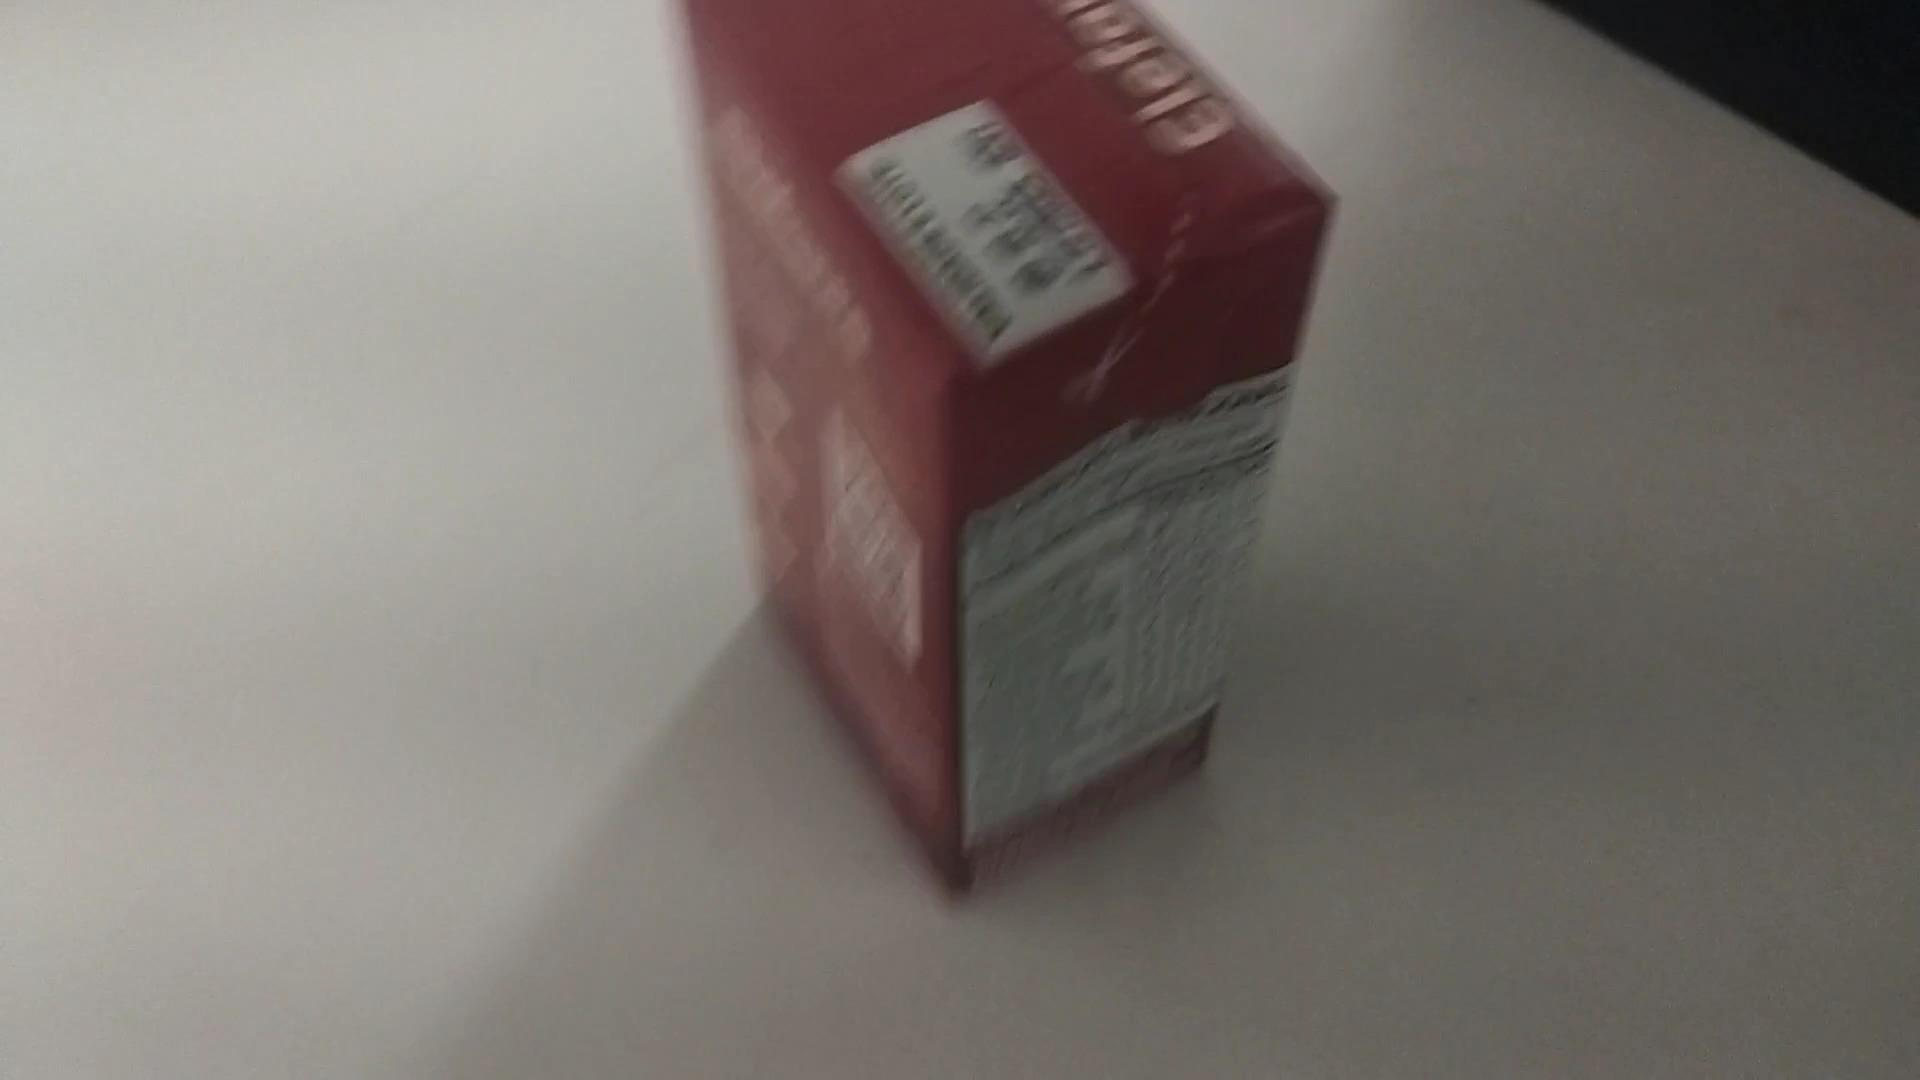tomate: (647, 0, 1341, 899)
